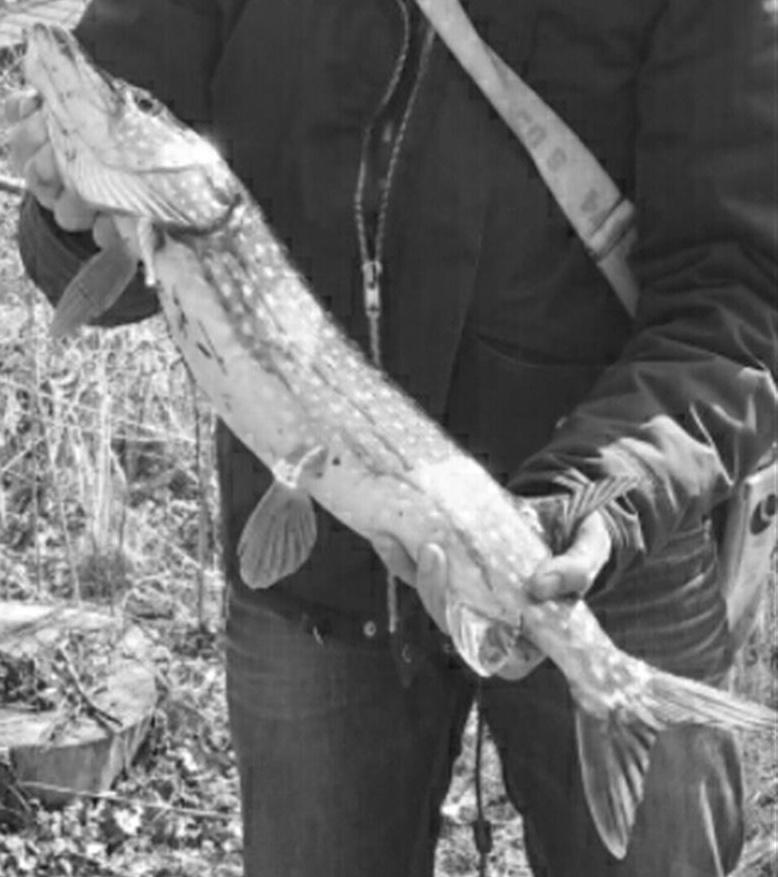Esox lucius: (20, 20, 778, 857)
